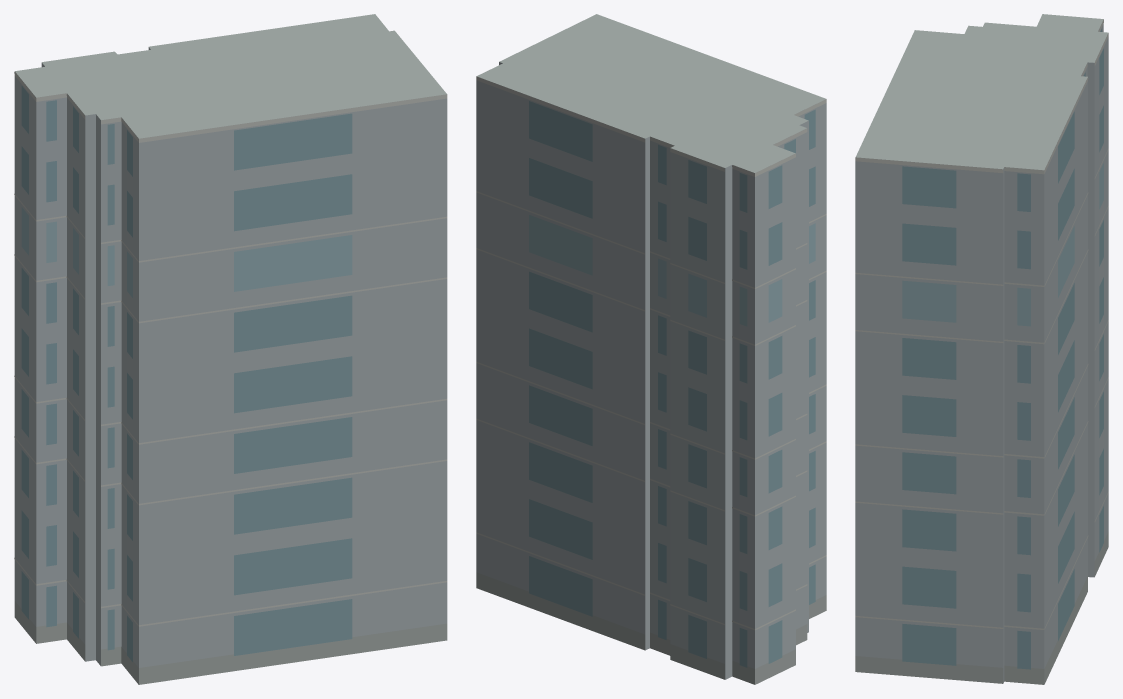
Rendered from survey-upis-32792574.glb.
3 views of the same model, side by side, from view 1: azimuth 30°, elevation 25°; view 2: azimuth 150°, elevation 25°; view 3: azimuth 270°, elevation 25° (orthographic). The views are drawn at different scales.
Visible parts, largest first — view 1: survey-upis-32792574.tmp; view 2: survey-upis-32792574.tmp; view 3: survey-upis-32792574.tmp.
Boxes of the visible parts, bbox=[...] form: survey-upis-32792574.tmp: bbox=[14, 14, 447, 684]; survey-upis-32792574.tmp: bbox=[476, 14, 826, 684]; survey-upis-32792574.tmp: bbox=[855, 14, 1108, 684].
Size of the model in its own units: 20.48 by 31.4 by 14.02.
